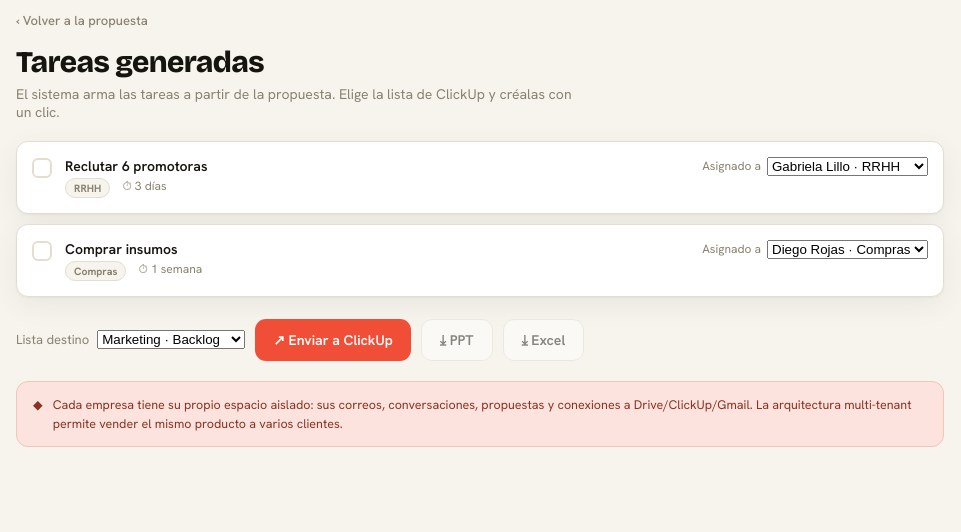
Test: Tareas · conector ClickUp › al enviar usa la lista elegida y muestra "N tareas creadas"
Select "Marketing · Sampling" in the dropdown named "Lista de ClickUp" at (171, 340), box [97,330,245,349]
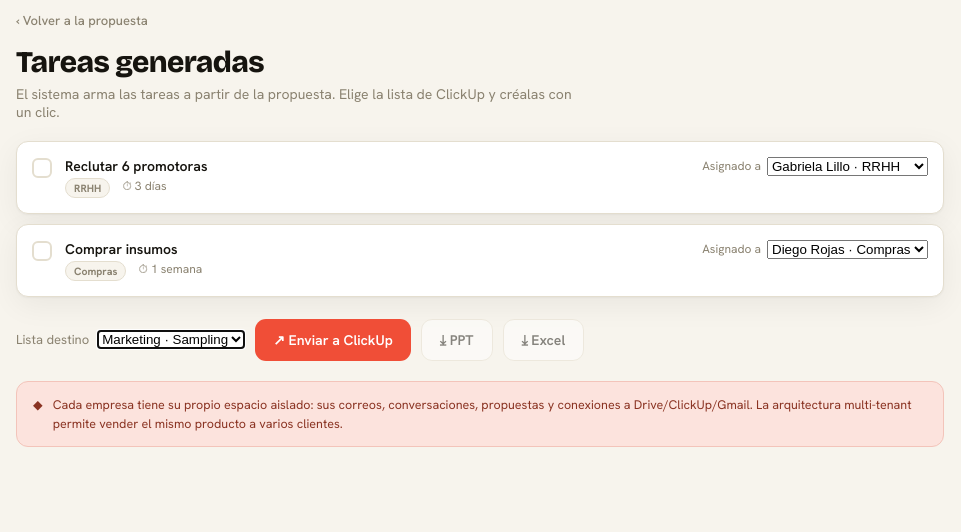
Click the button "↗ Enviar a ClickUp".
click(333, 340)  # box [255,318,411,360]
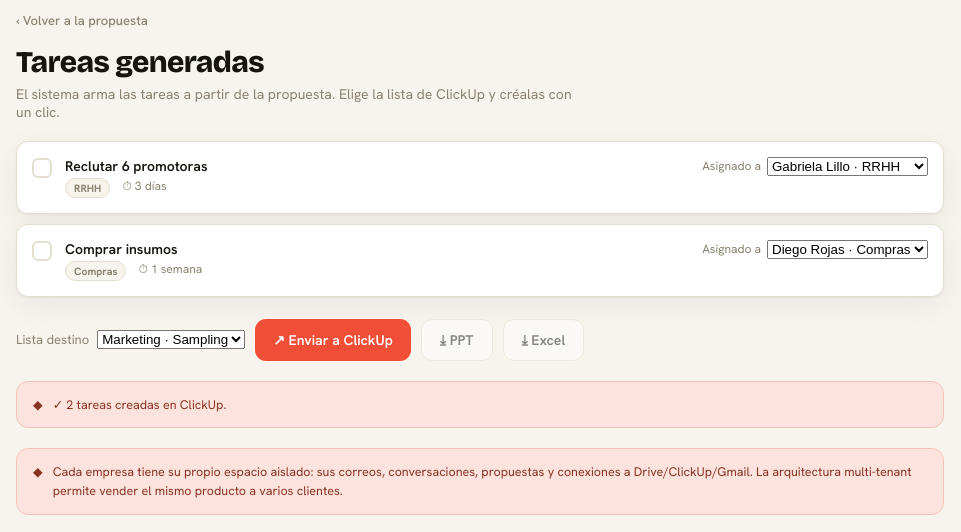
Result: the text "✓ 2 tareas creadas en ClickUp." is shown at [53,394,226,414]
